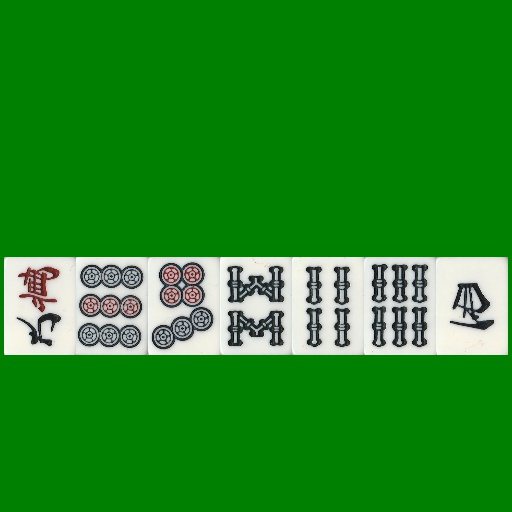4s: (292, 257, 364, 355)
6s: (364, 257, 436, 355)
7p: (148, 257, 220, 355)
8s: (220, 257, 292, 355)
9m: (4, 257, 76, 355)
9p: (76, 257, 148, 355)
west: (436, 257, 508, 355)
